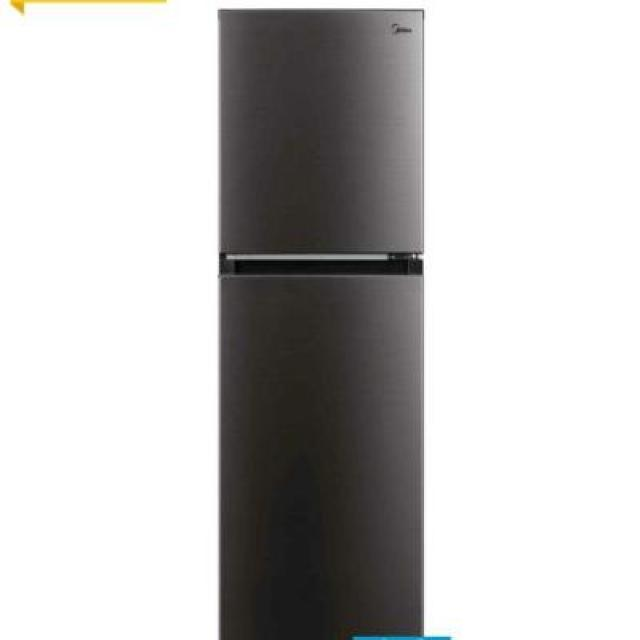refrigerator: (219, 7, 426, 639)
